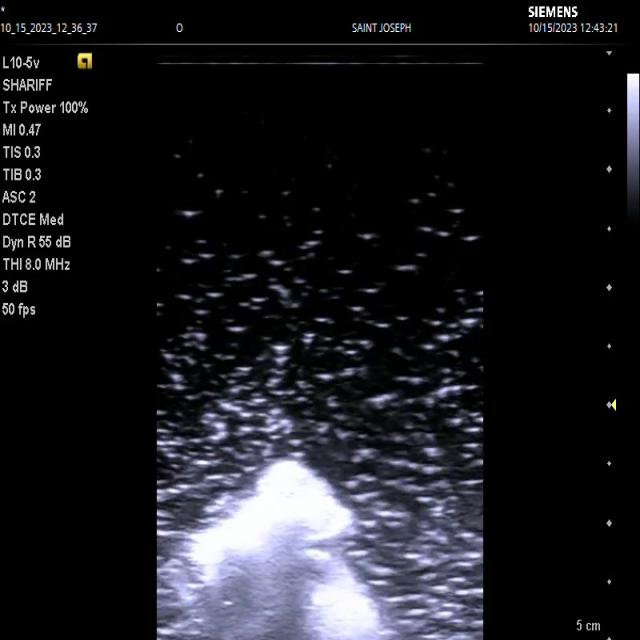tissue: (160, 467, 395, 639)
